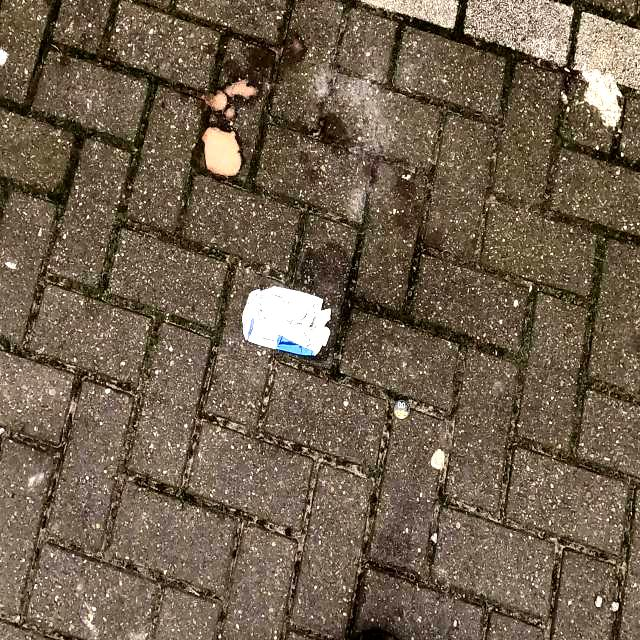Metal: (240, 284, 332, 358)
